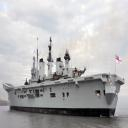Portanaves: (3, 35, 126, 121)
